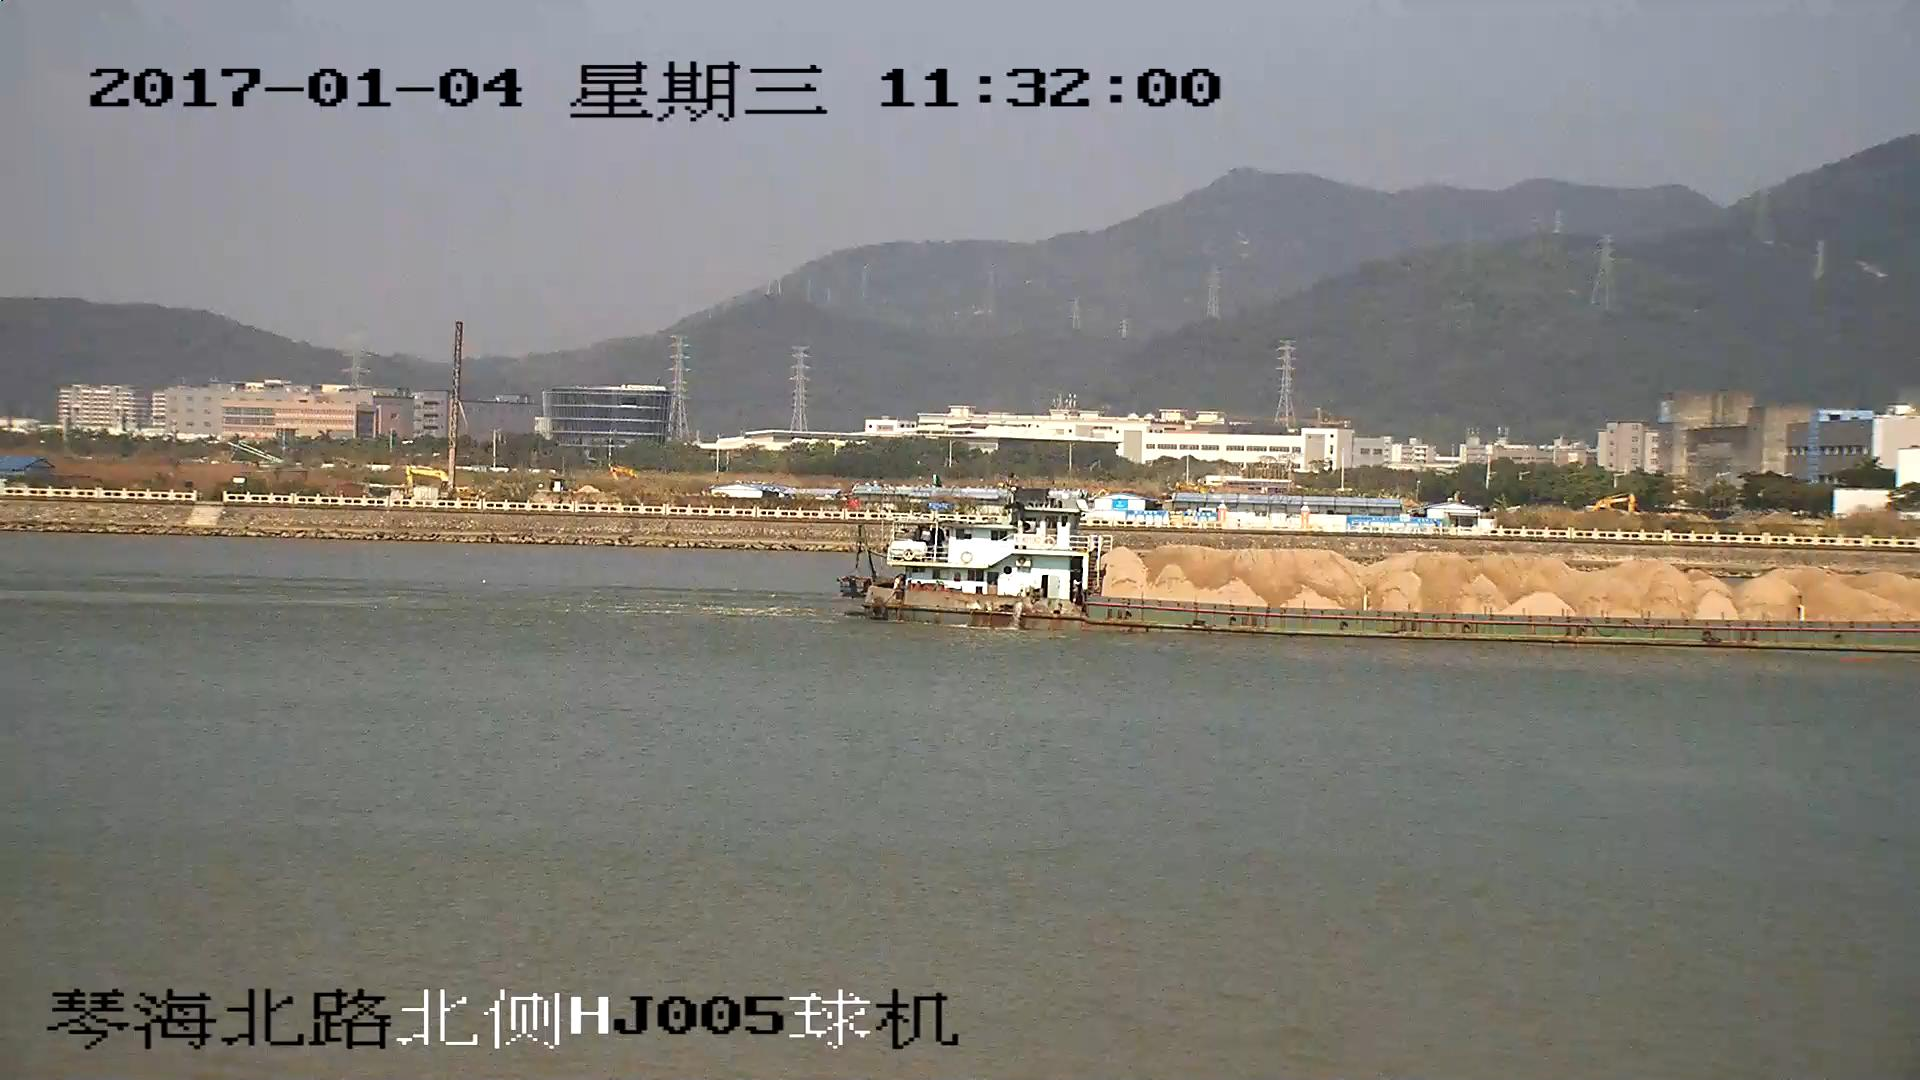ore carrier: (843, 500, 1920, 654)
